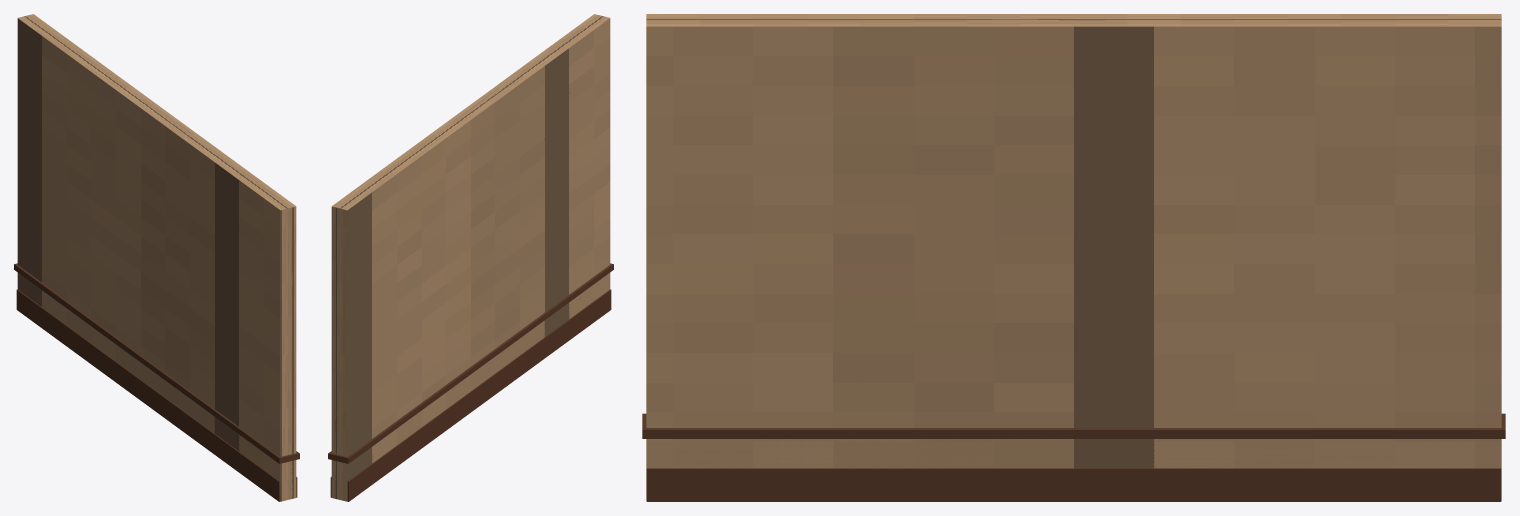
The model's file is back1.glb.
The picture shows the model from 3 angles, left to right: view 1: azimuth 30°, elevation 25°; view 2: azimuth 150°, elevation 25°; view 3: azimuth 270°, elevation 25°; orthographic projection. The views are drawn at different scales.
Parts seen in each view (by area): view 1: Box1, Box2, Box4, Box3; view 2: Box1, Box2, Box4, Box3; view 3: Box1, Box2, Box3, Box4.
Part boxes in pixels (bbox=[...]): Box1: bbox=[17, 14, 296, 501]; Box2: bbox=[16, 289, 297, 501]; Box4: bbox=[14, 263, 299, 463]; Box3: bbox=[18, 275, 296, 501]; Box1: bbox=[331, 14, 610, 501]; Box2: bbox=[330, 289, 611, 501]; Box4: bbox=[328, 263, 613, 463]; Box3: bbox=[331, 274, 610, 500]; Box1: bbox=[646, 14, 1501, 500]; Box2: bbox=[646, 468, 1501, 501]; Box3: bbox=[646, 439, 1501, 499]; Box4: bbox=[642, 413, 1505, 438].
Bounding box in the file's own units: 0.19 × 2.6 × 4.29.
Materials: 2 (1 with a texture image).
